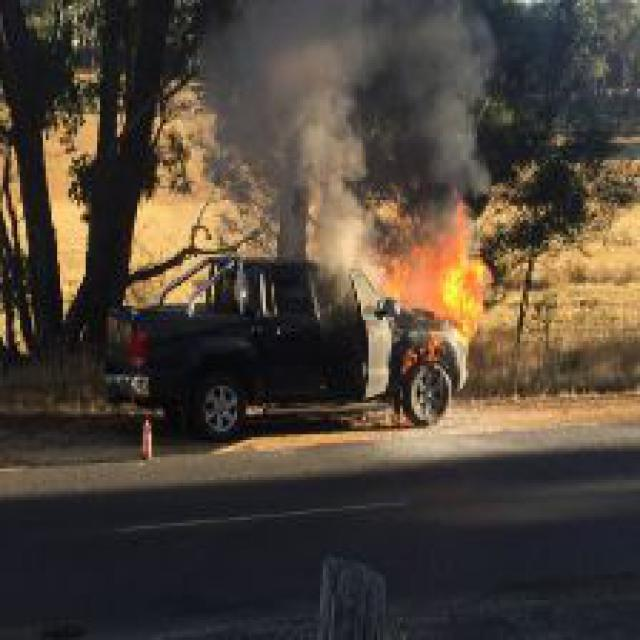fire: (374, 188, 494, 363)
